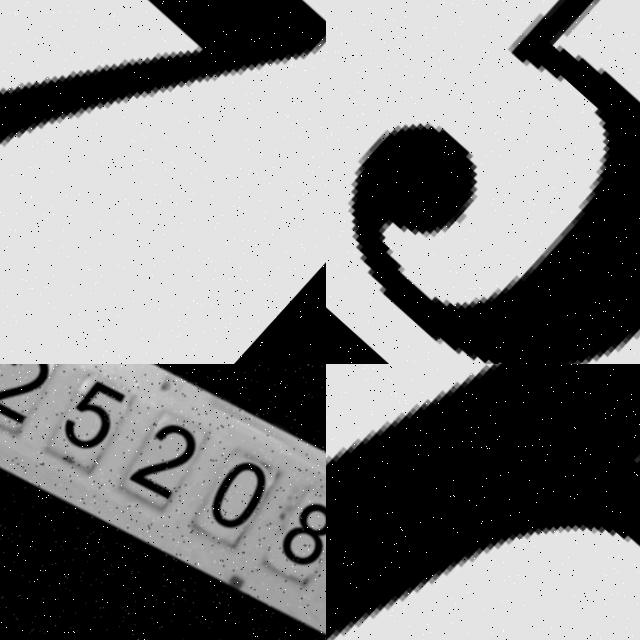0: (173, 433, 295, 560)
2: (102, 395, 223, 522), (0, 364, 78, 445)
5: (326, 0, 640, 364), (25, 364, 150, 480)
7: (0, 0, 326, 364)
8: (245, 472, 326, 599)
R: (326, 364, 640, 640)
